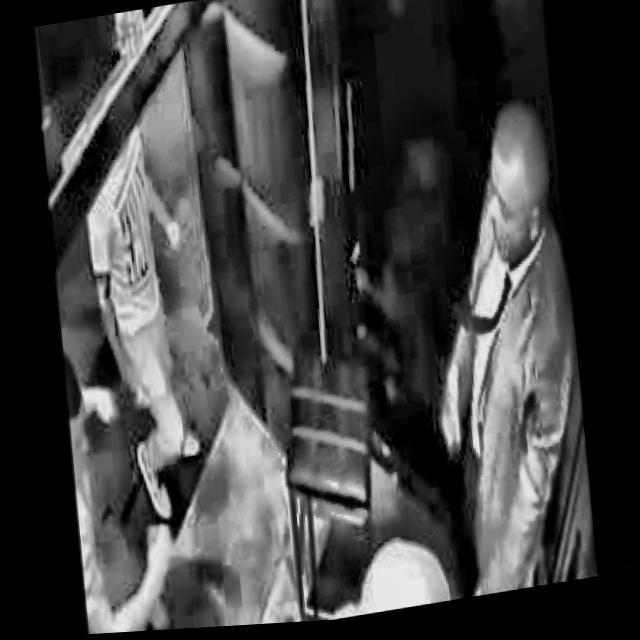Robbery: (417, 93, 640, 608), (74, 94, 236, 566), (47, 332, 183, 640), (298, 496, 449, 640)
